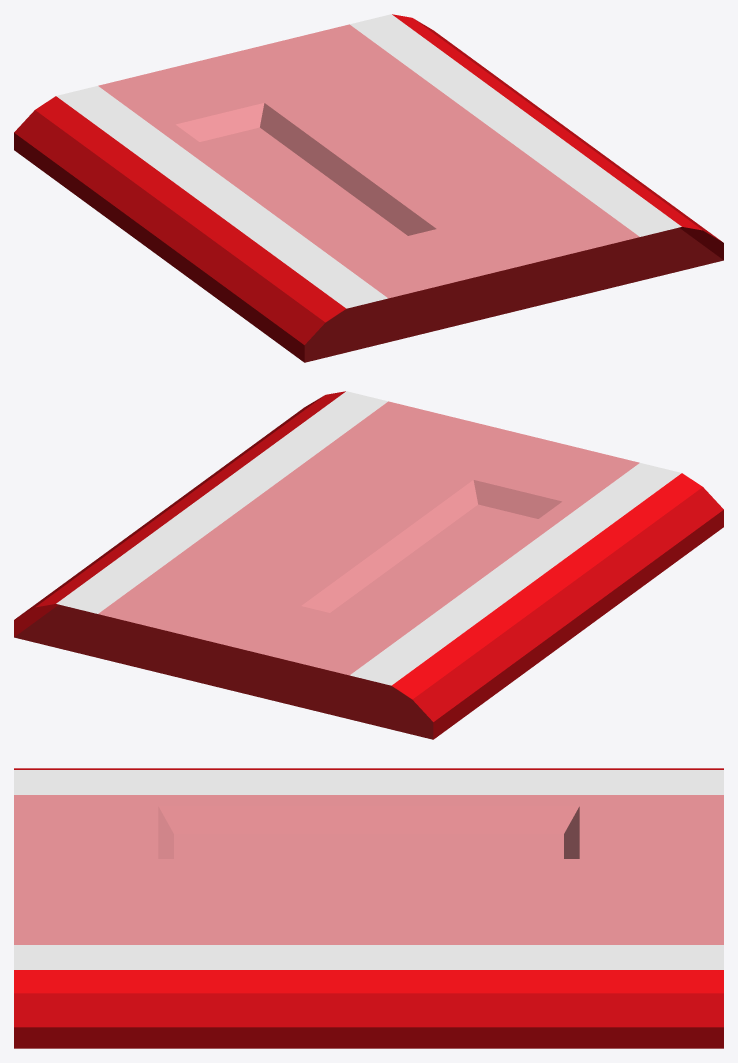
Rendered from straightD.fbx.
The picture shows the model from 3 angles, top to bottom: view 1: azimuth 30°, elevation 25°; view 2: azimuth 150°, elevation 25°; view 3: azimuth 270°, elevation 25°; orthographic projection. The views are drawn at different scales.
Parts seen in each view (by area): view 1: StraightDipNu; view 2: StraightDipNu; view 3: StraightDipNu.
Part boxes in pixels (bbox=[...]): StraightDipNu: bbox=[14, 14, 723, 362]; StraightDipNu: bbox=[14, 391, 723, 739]; StraightDipNu: bbox=[14, 768, 723, 1048].
Bounding box in the file's own units: 10 × 1 × 12.
